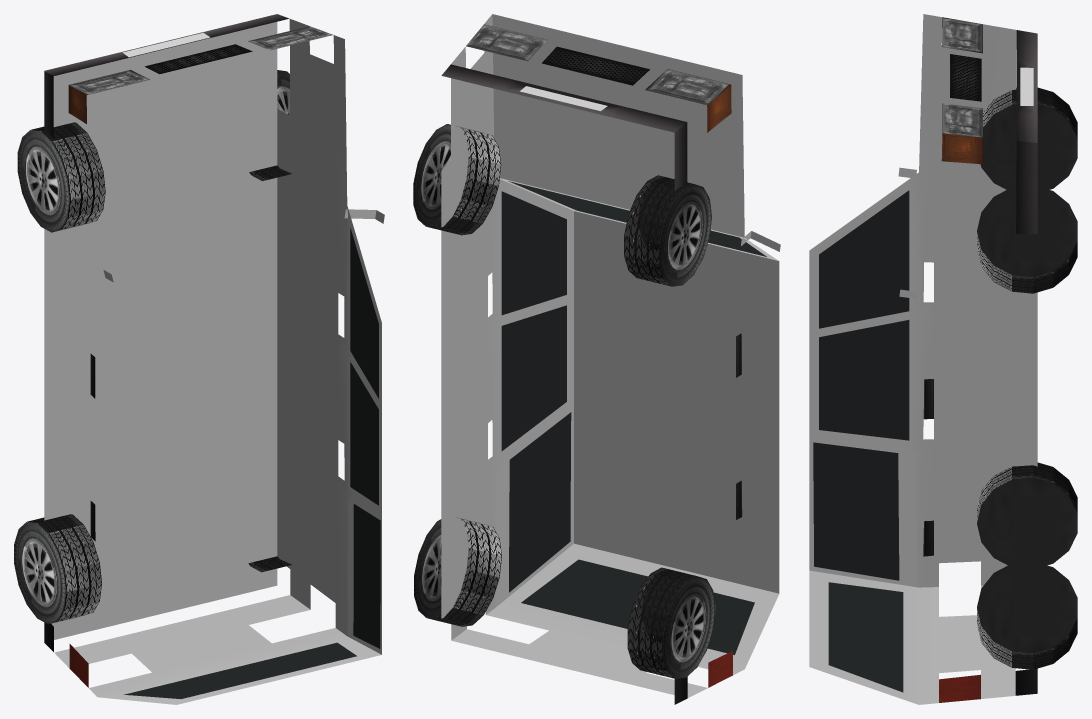
The model's file is SUV.gltf.
3 views of the same model, side by side, from view 1: azimuth 30°, elevation 25°; view 2: azimuth 150°, elevation 25°; view 3: azimuth 270°, elevation 25° (orthographic). The views are drawn at different scales.
Visible parts, largest first — view 1: Body4, WheelRL006, WheelRL3, WheelRL007; view 2: Body4, WheelRL006, WheelRL3, WheelRL007, WheelRL008; view 3: Body4, WheelRL008, WheelRL006, WheelRL007, WheelRL3.
Boxes of the visible parts, box(x1,y1,x2,y2) form: Body4: box(44, 14, 381, 704); WheelRL006: box(14, 514, 101, 624); WheelRL3: box(17, 122, 105, 232); WheelRL007: box(249, 70, 291, 181); Body4: box(441, 14, 779, 704); WheelRL006: box(627, 567, 715, 678); WheelRL3: box(624, 175, 711, 286); WheelRL007: box(413, 124, 501, 235); WheelRL008: box(414, 517, 501, 626); Body4: box(809, 14, 1037, 704); WheelRL008: box(977, 561, 1077, 669); WheelRL006: box(977, 462, 1077, 565); WheelRL007: box(977, 186, 1077, 293); WheelRL3: box(980, 87, 1077, 189).
Bounding box in the file's own units: 0.6761 × 1.27 × 0.5383.
7 materials, 4 textured.
